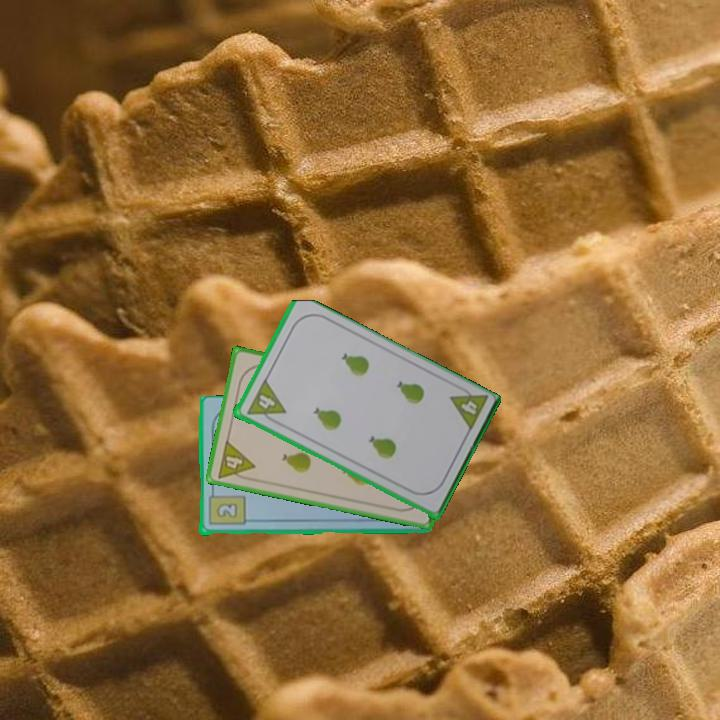2b: (205, 486, 247, 528)
4p: (446, 381, 491, 435), (243, 377, 288, 428), (213, 437, 258, 484)
